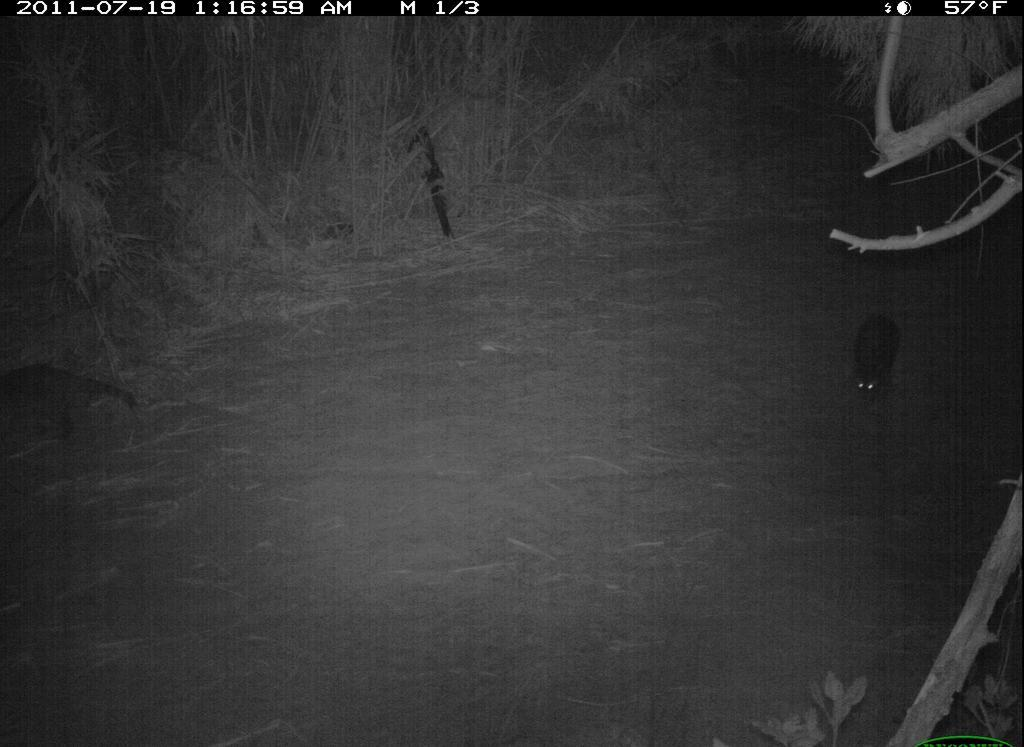raccoon: (843, 303, 914, 419)
